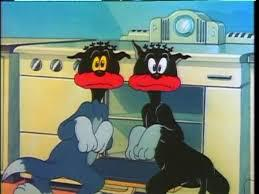tom: (1, 41, 128, 194)
